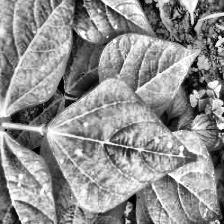Bean Rust: (46, 82, 190, 211), (0, 0, 74, 115), (0, 136, 63, 224), (69, 0, 160, 44)
